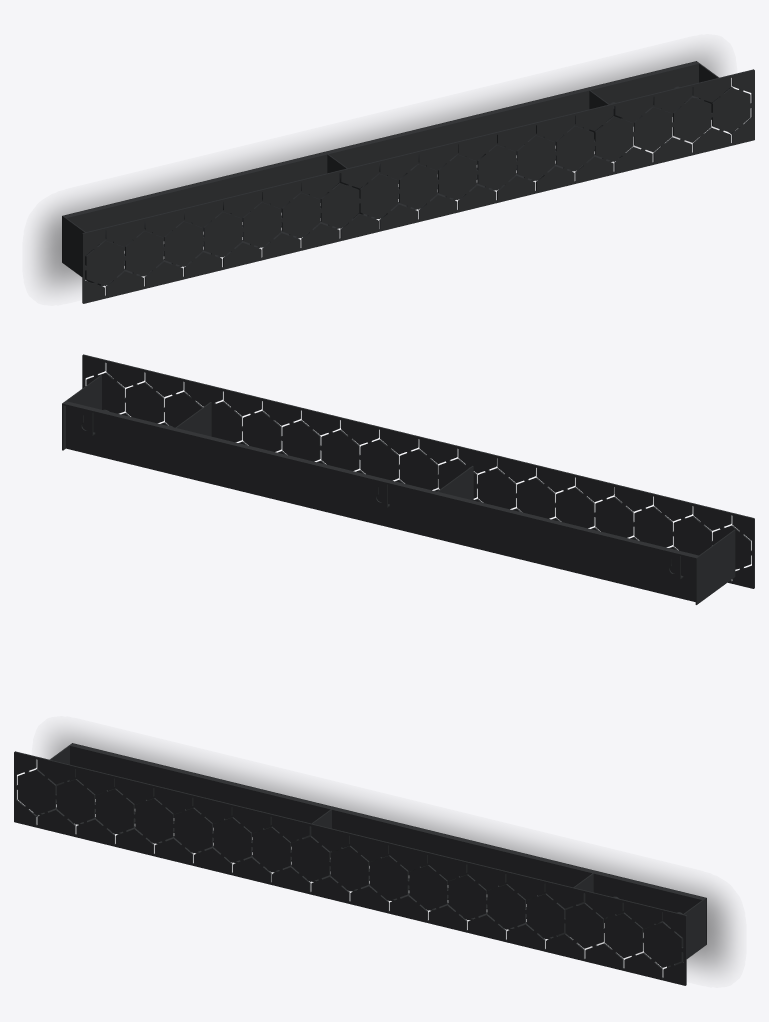
File: bee-patron.a38bf5574a.ar.glb
The picture shows the model from 3 angles, top to bottom: view 1: azimuth 30°, elevation 25°; view 2: azimuth 150°, elevation 25°; view 3: azimuth 330°, elevation 25°; orthographic projection.
Parts seen in each view (by area): view 1: NAUO1, object 2; view 2: NAUO1; view 3: NAUO1, object 2.
Part boxes in pixels (left/top/right/bottom): NAUO1: left=62, top=61, right=754, bottom=303; object 2: left=36, top=51, right=722, bottom=288; NAUO1: left=62, top=354, right=754, bottom=604; NAUO1: left=14, top=743, right=706, bottom=985; object 2: left=46, top=733, right=732, bottom=970.
Size of the model in its own units: 0.98 by 0.17 by 0.092.
2 materials, 1 textured.
